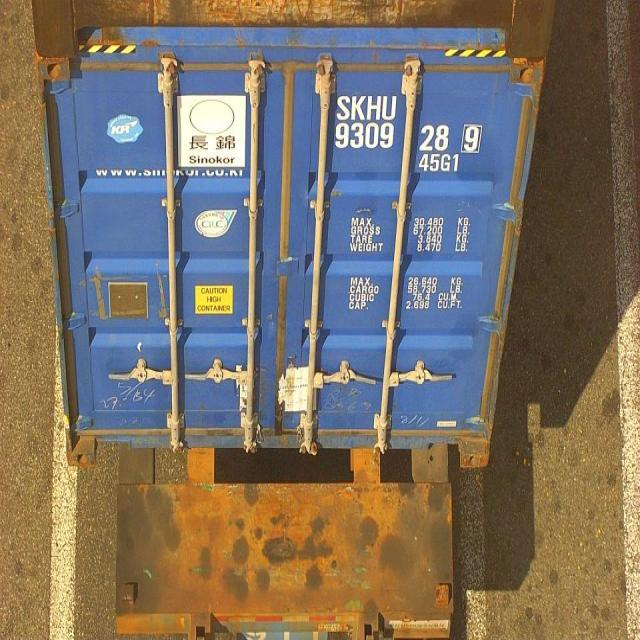ISO: (420, 154, 460, 174)
container_number: (334, 92, 482, 154)
